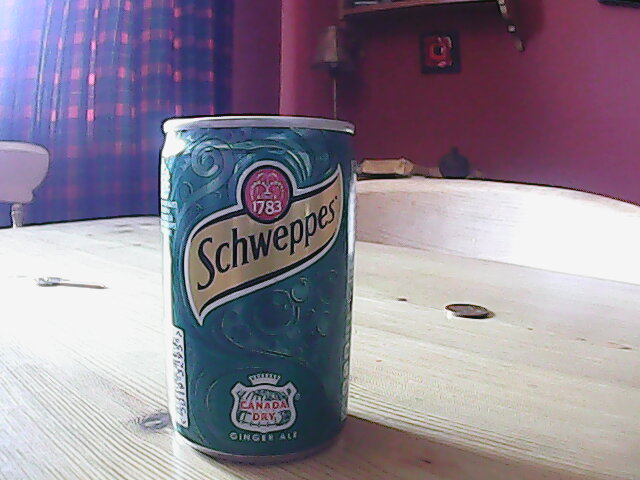Can: (153, 114, 356, 469)
Coin: (443, 302, 495, 325)
Key: (32, 275, 107, 295)
